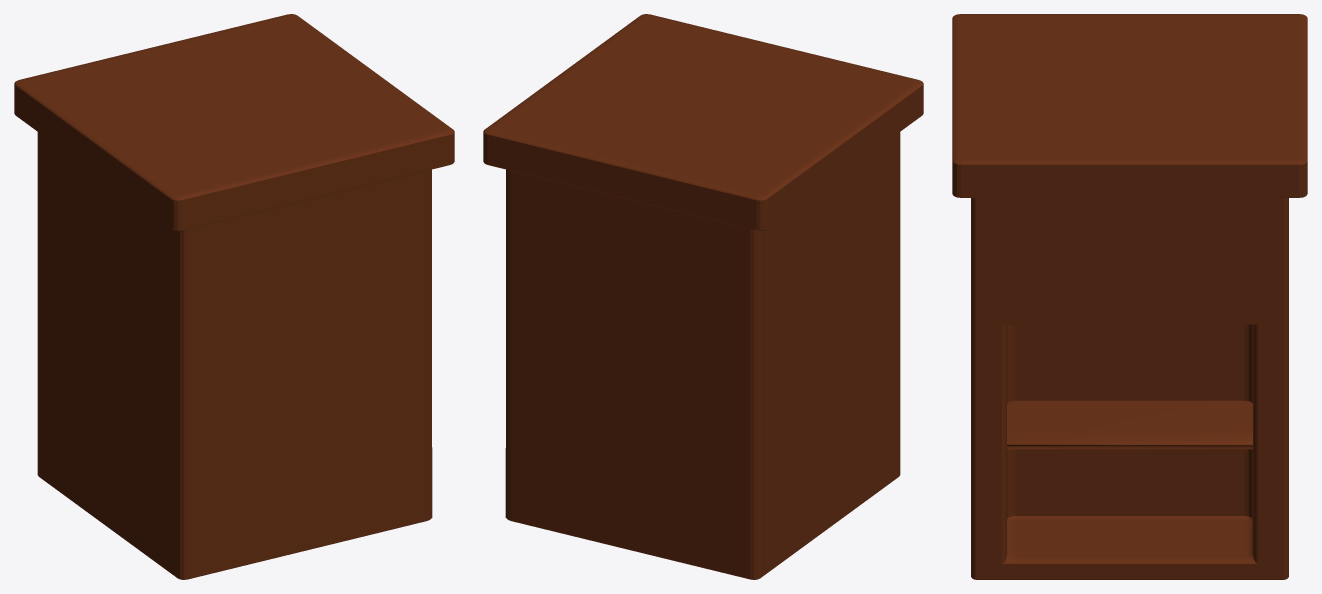
Rendered from Table1.fbx.
3 renders of one model, left to right at view 1: azimuth 30°, elevation 25°; view 2: azimuth 150°, elevation 25°; view 3: azimuth 270°, elevation 25°, orthographic. The views are drawn at different scales.
Parts seen in each view (by area): view 1: Cube.028; view 2: Cube.028; view 3: Cube.028, Cube.029.
Boxes of the visible parts, bbox=[...] form: Cube.028: bbox=[14, 14, 454, 579]; Cube.028: bbox=[483, 14, 923, 579]; Cube.028: bbox=[952, 14, 1307, 579]; Cube.029: bbox=[1007, 400, 1252, 449].
Size of the model in its own units: 125 by 166 by 125.
